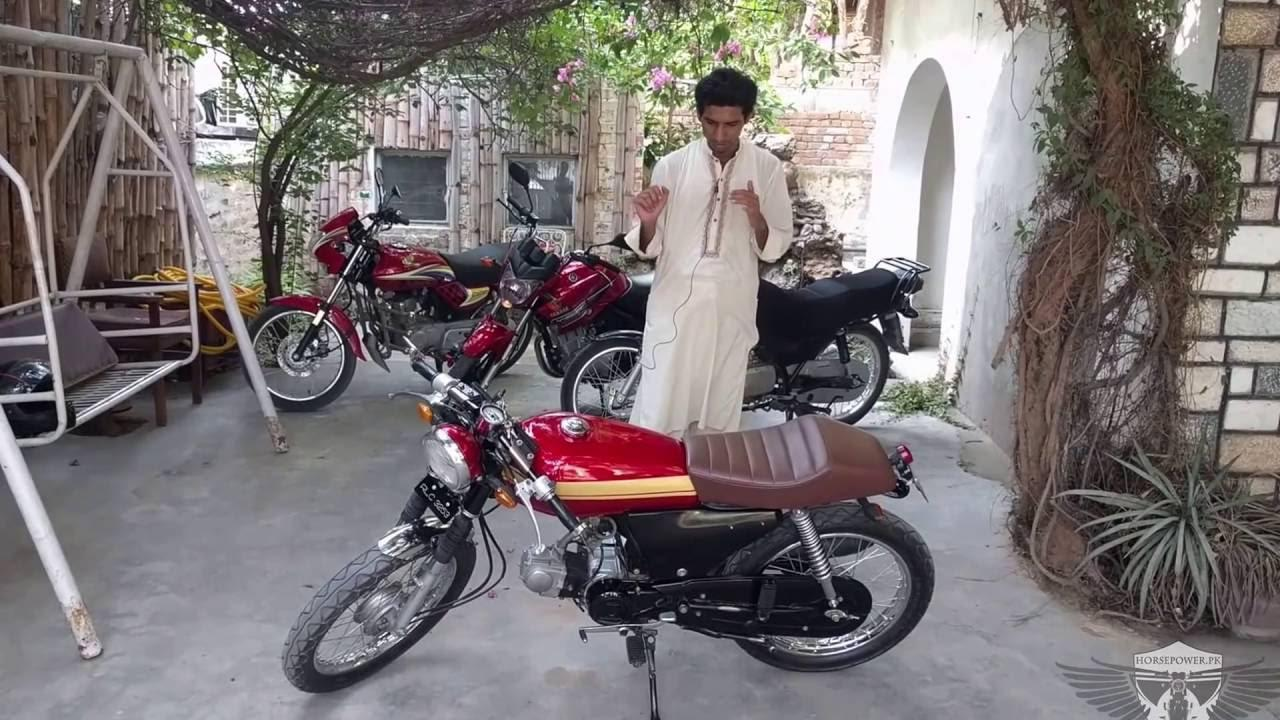motorcycle: (307, 375, 959, 699), (579, 250, 933, 433), (236, 187, 493, 414), (465, 172, 657, 368)
